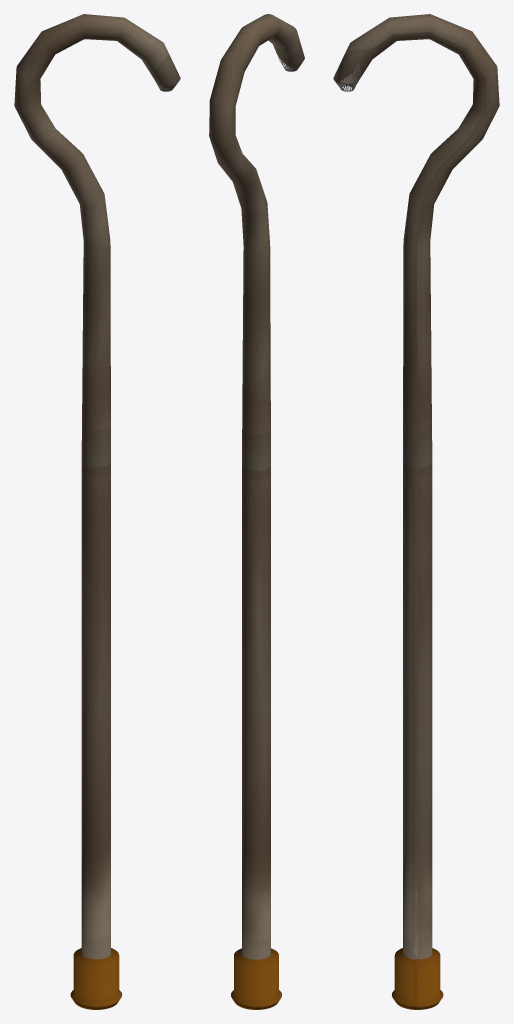
Rendered from Cane.fbx.
3 views of the same model, side by side, from view 1: azimuth 90°, elevation 25°; view 2: azimuth 150°, elevation 25°; view 3: azimuth 270°, elevation 25° (orthographic).
Visible parts, largest first — view 1: Cylinder; view 2: Cylinder; view 3: Cylinder.
Boxes of the visible parts, x1,y1,x2,y2 form: Cylinder: (14, 14, 180, 1009); Cylinder: (209, 14, 304, 1009); Cylinder: (333, 14, 499, 1009).
Bounding box in the file's own units: 13.93 × 293 × 44.74.
